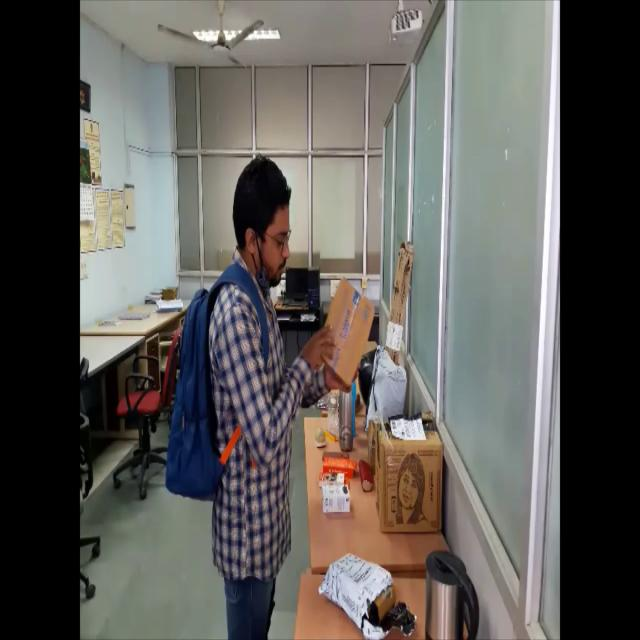normal: (163, 140, 375, 639)
